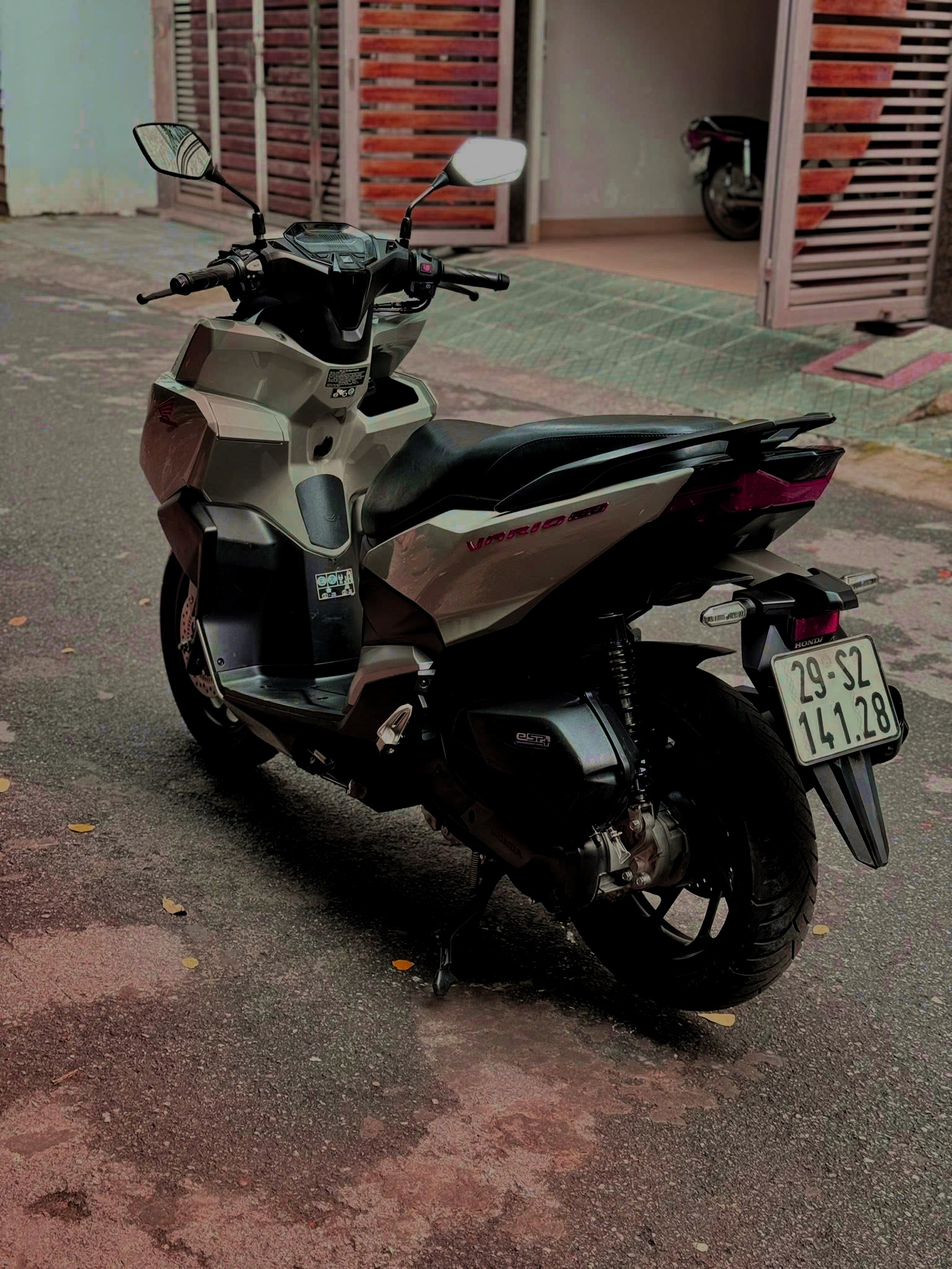Bien-so: (785, 607, 921, 740)
